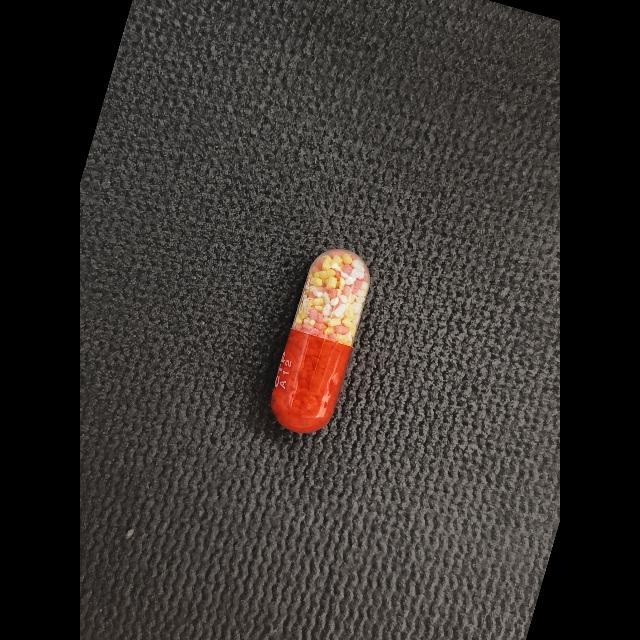Intact Capsule: (271, 248, 370, 433)
